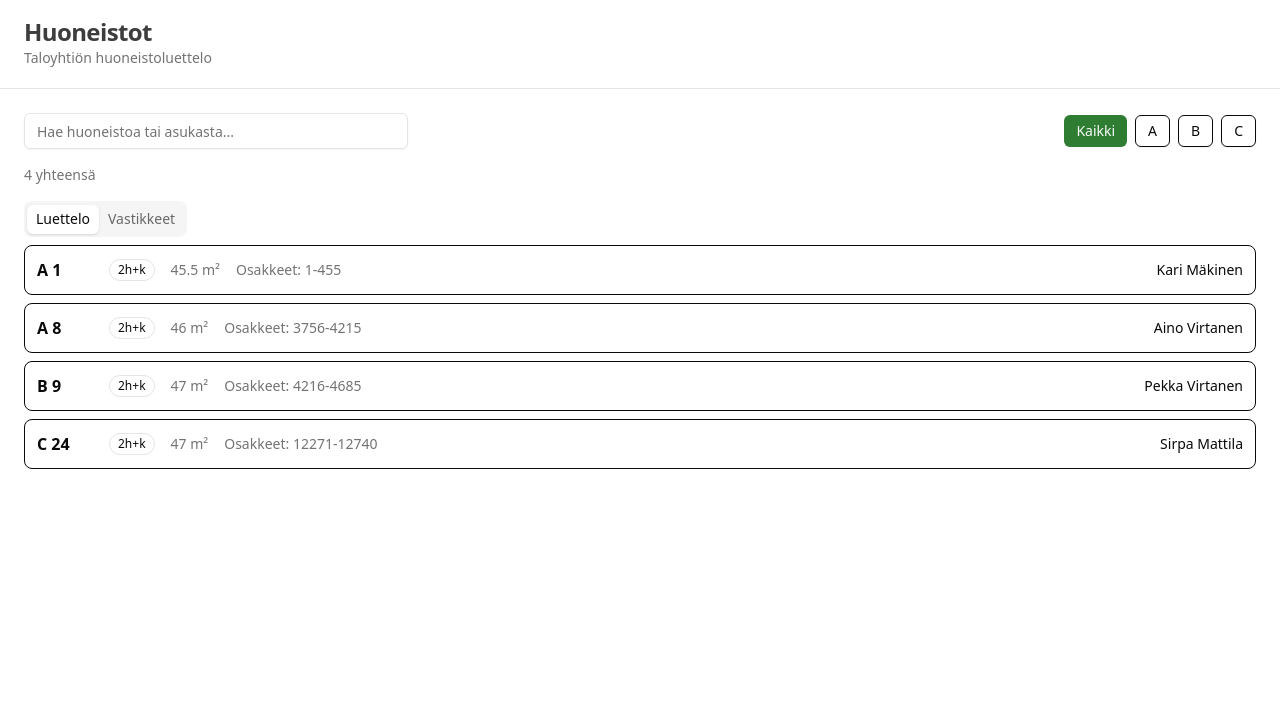
Test case: ApartmentsPage › switches to payment view
This screenshot has width=1280, height=720.
Expected: the text "A 1" is shown, [37, 259, 61, 281]
Click the tab "Vastikkeet" at (142, 219), box [99, 204, 184, 234]
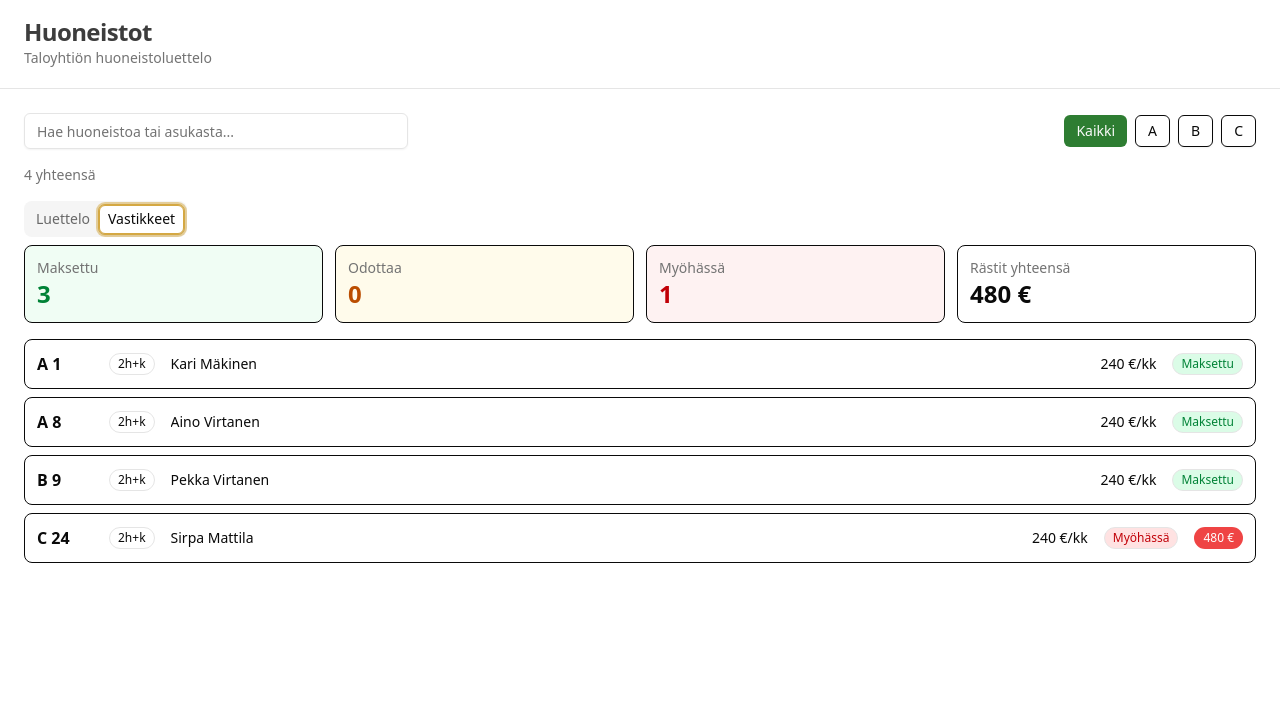
Result: the text "Maksettu" next to "Odottaa" is shown at [37, 258, 98, 277]
